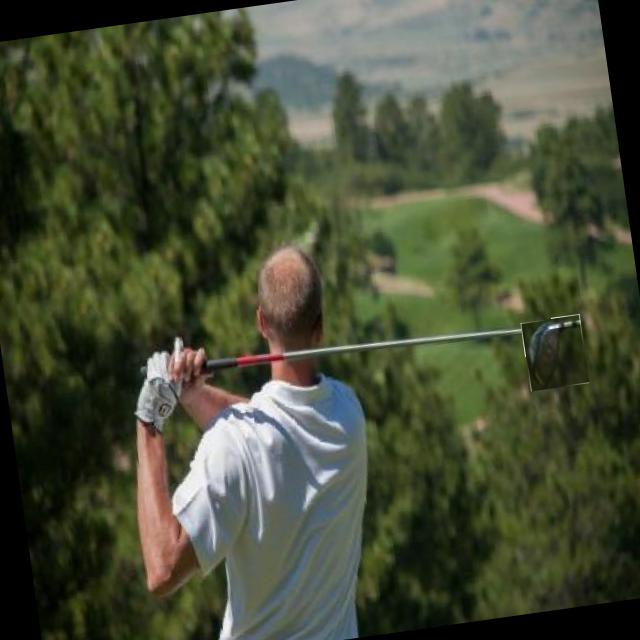club head: (522, 314, 590, 392)
